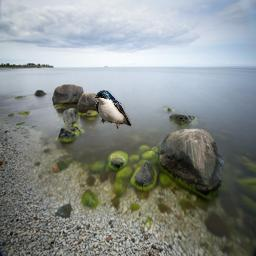Swallow: (95, 90, 132, 129)
